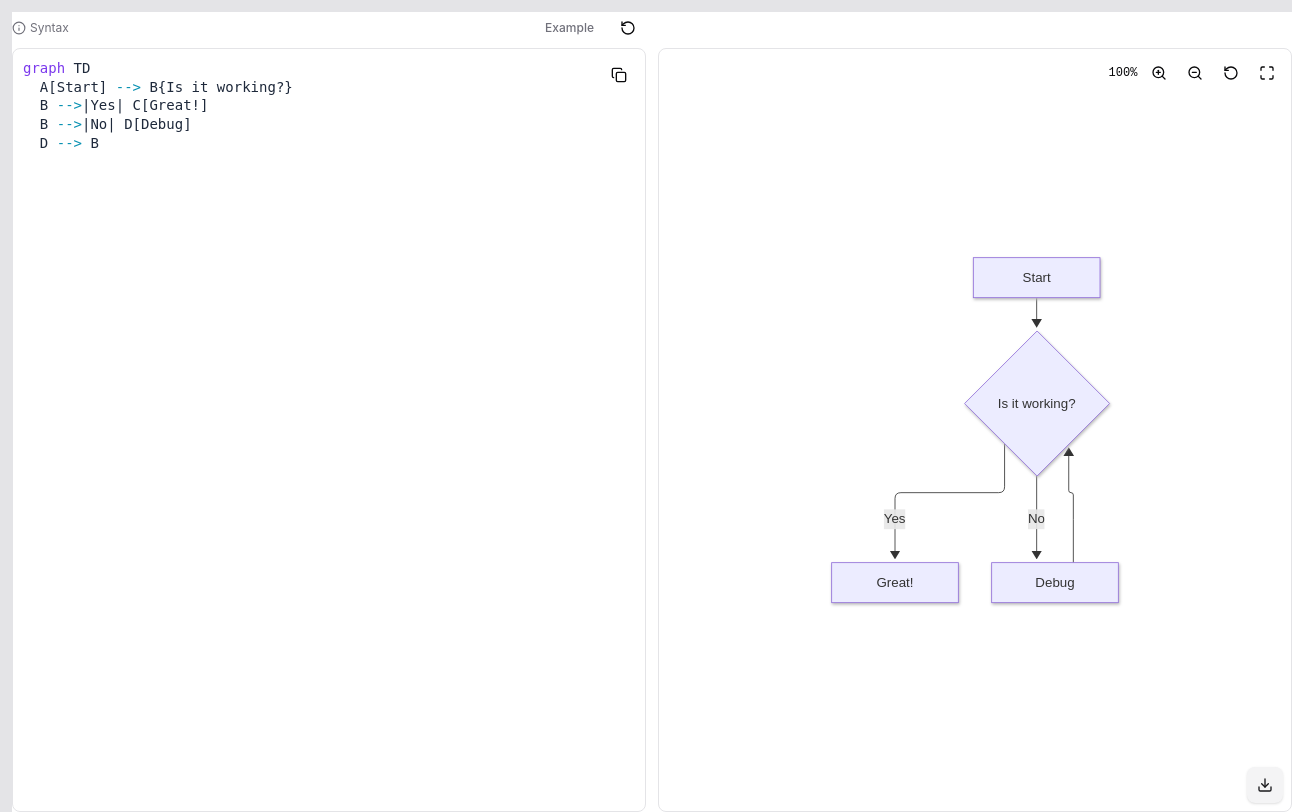
it: download dropdown opens with PNG/JPG/SVG options
The width and height of the screenshot is (1292, 812).
Step 1. Press the mouse on the button named "Download diagram" → point(1265, 785), box [1247,767,1283,803]
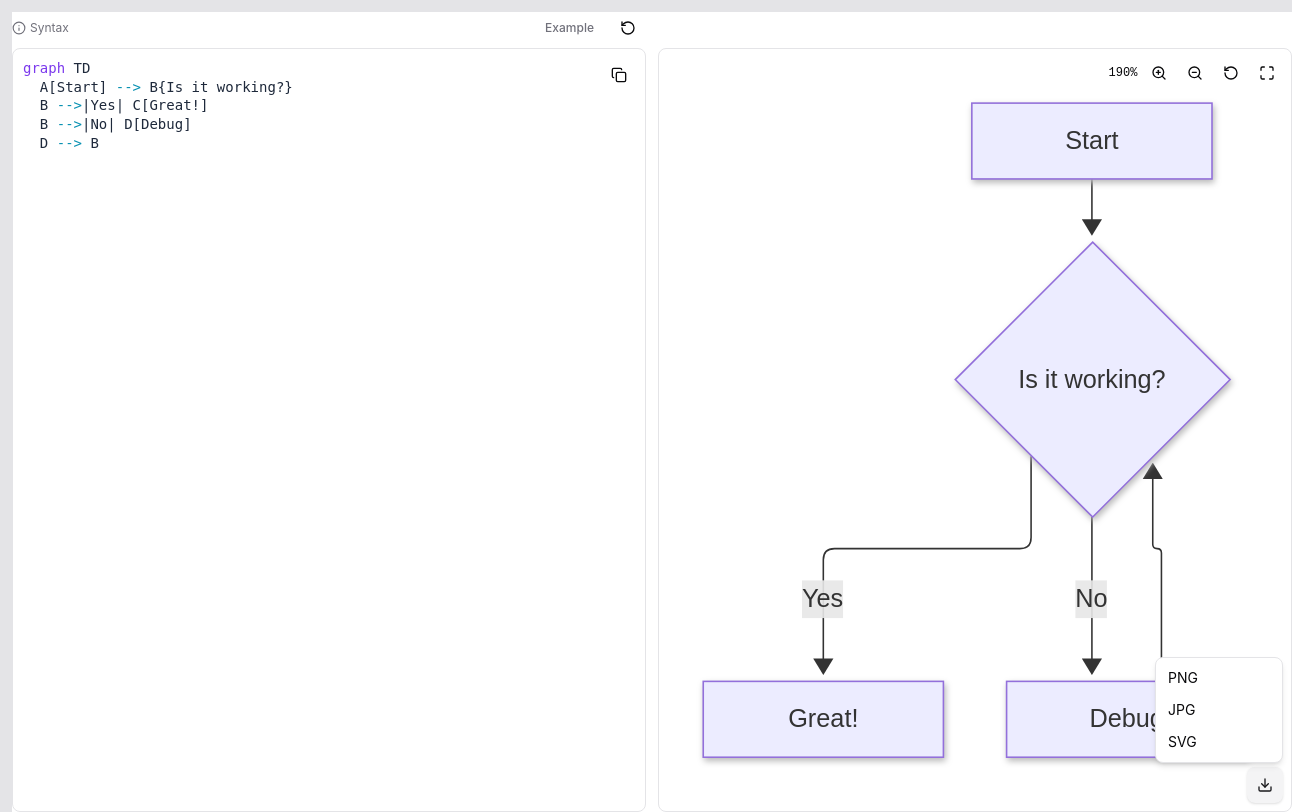
Result: the menu item "PNG" is shown at [1168,669,1198,686]
